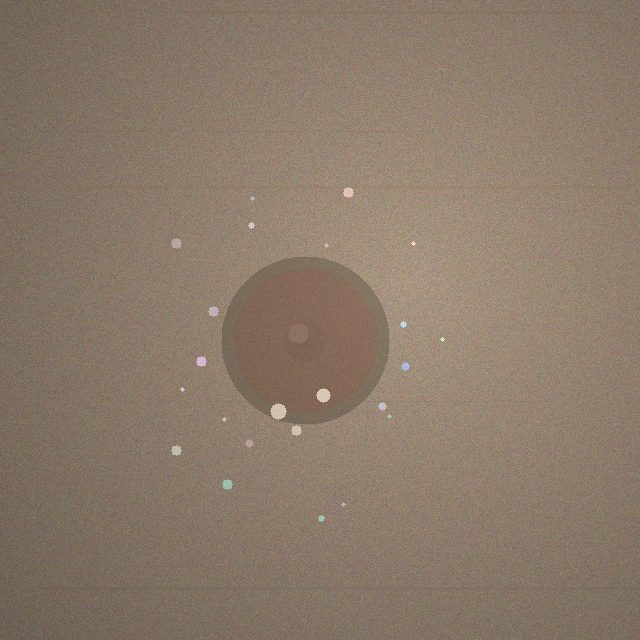overburn: (221, 256, 389, 424)
